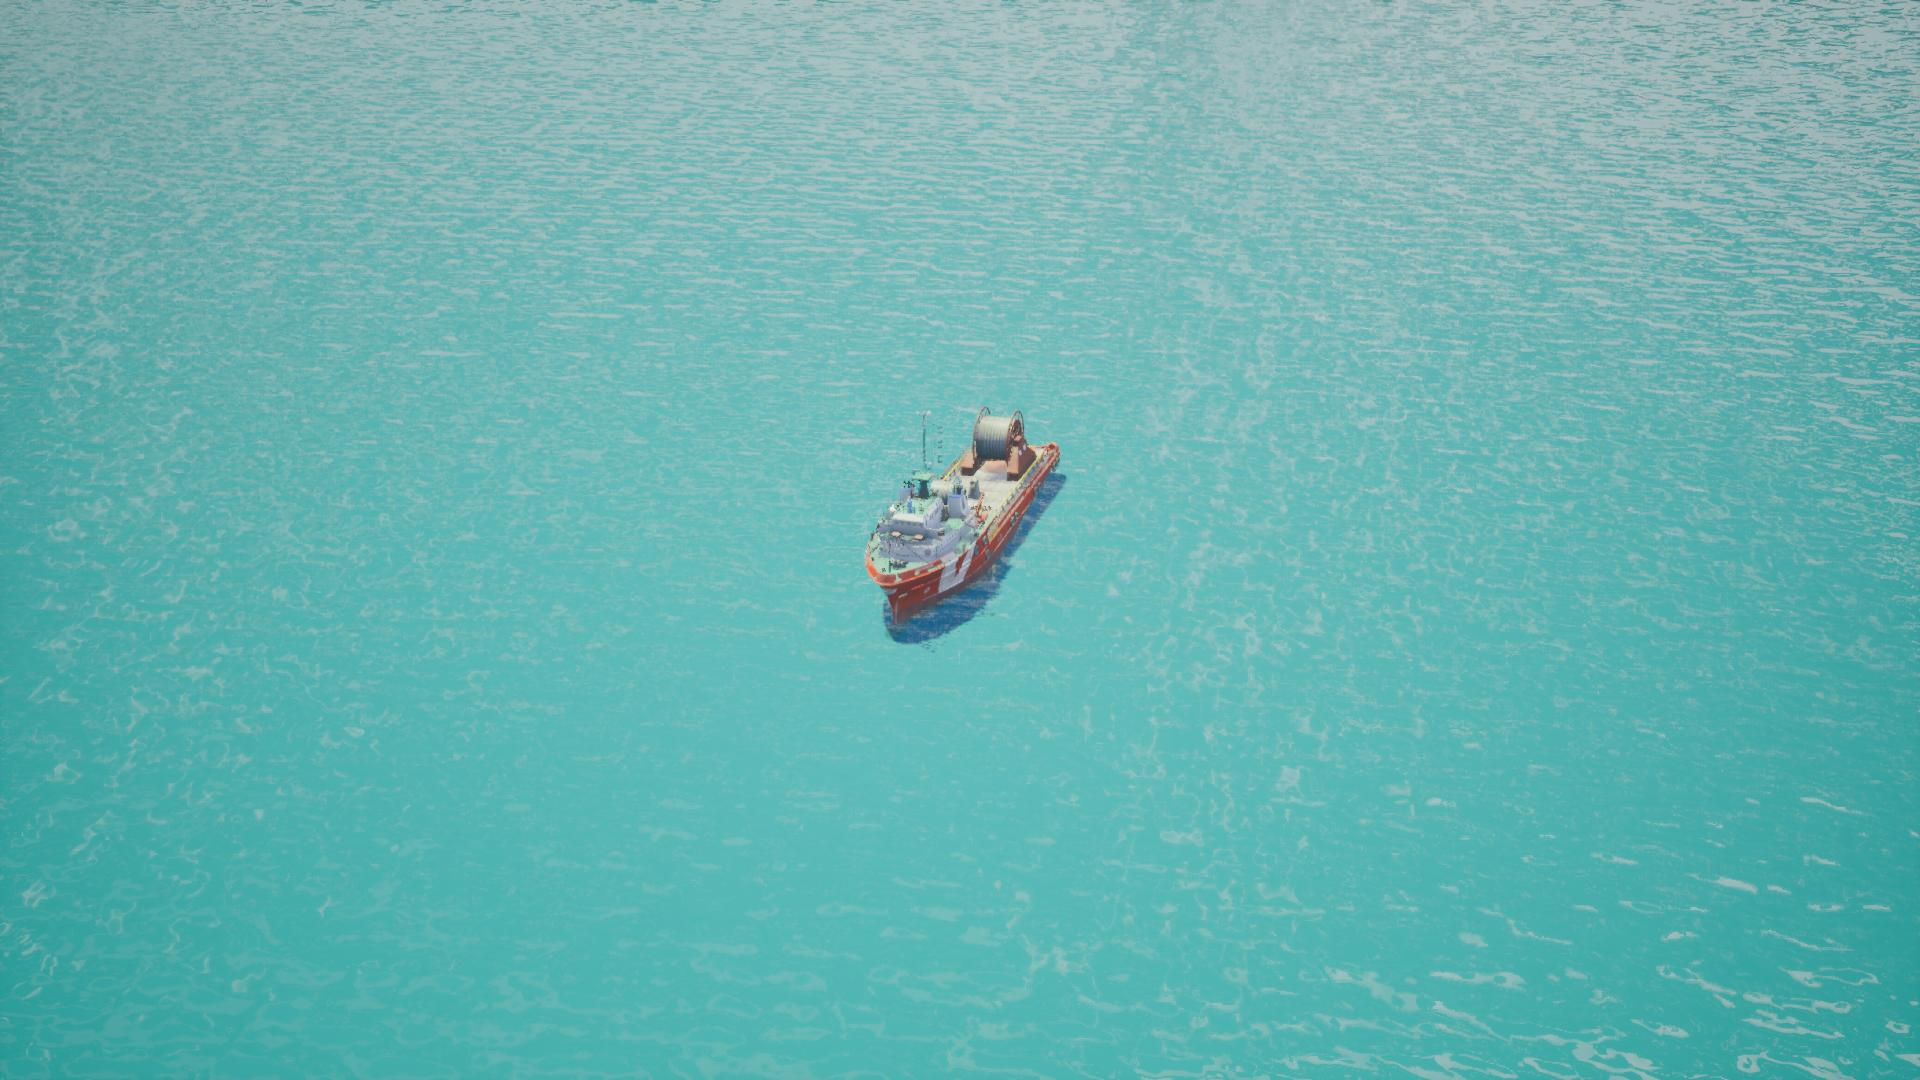Tug Boat: (848, 377, 1108, 658)
